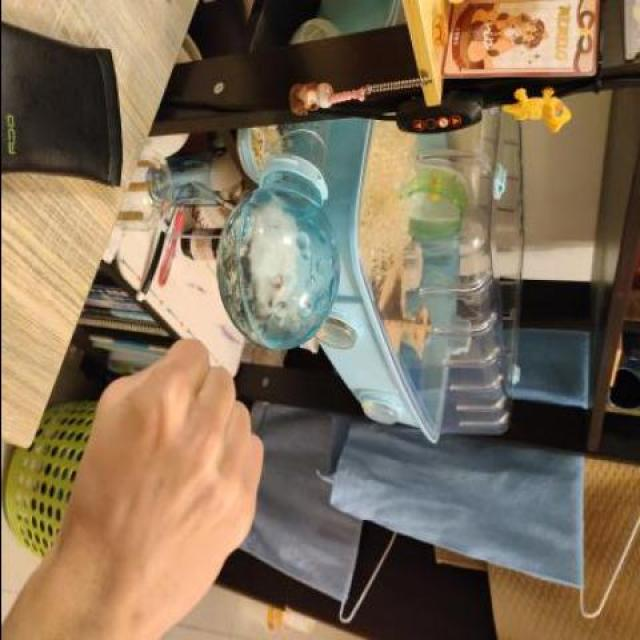Closed Hand: (27, 309, 272, 640)
